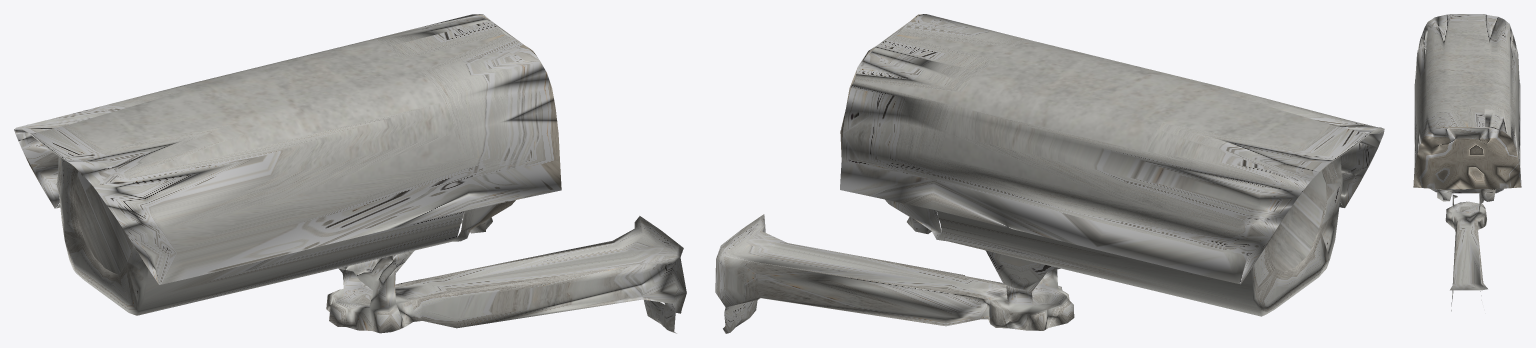
Rendered from security_camera_01.glb.
3 views of the same model, side by side, from view 1: azimuth 30°, elevation 25°; view 2: azimuth 150°, elevation 25°; view 3: azimuth 270°, elevation 25° (orthographic). The views are drawn at different scales.
Parts seen in each view (by area): view 1: security_camera_01; view 2: security_camera_01; view 3: security_camera_01.
Boxes of the visible parts, <box> form: security_camera_01: <box>14,14,686,333</box>; security_camera_01: <box>715,14,1384,333</box>; security_camera_01: <box>1413,14,1521,311</box>.
Size of the model in its own units: 0.553 by 0.2852 by 0.166.
Materials: 1 (1 with a texture image).
